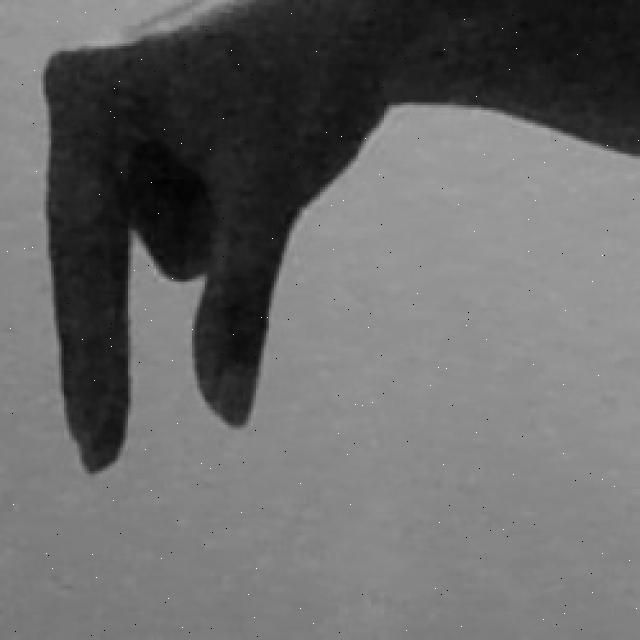Q: (35, 0, 400, 481)
